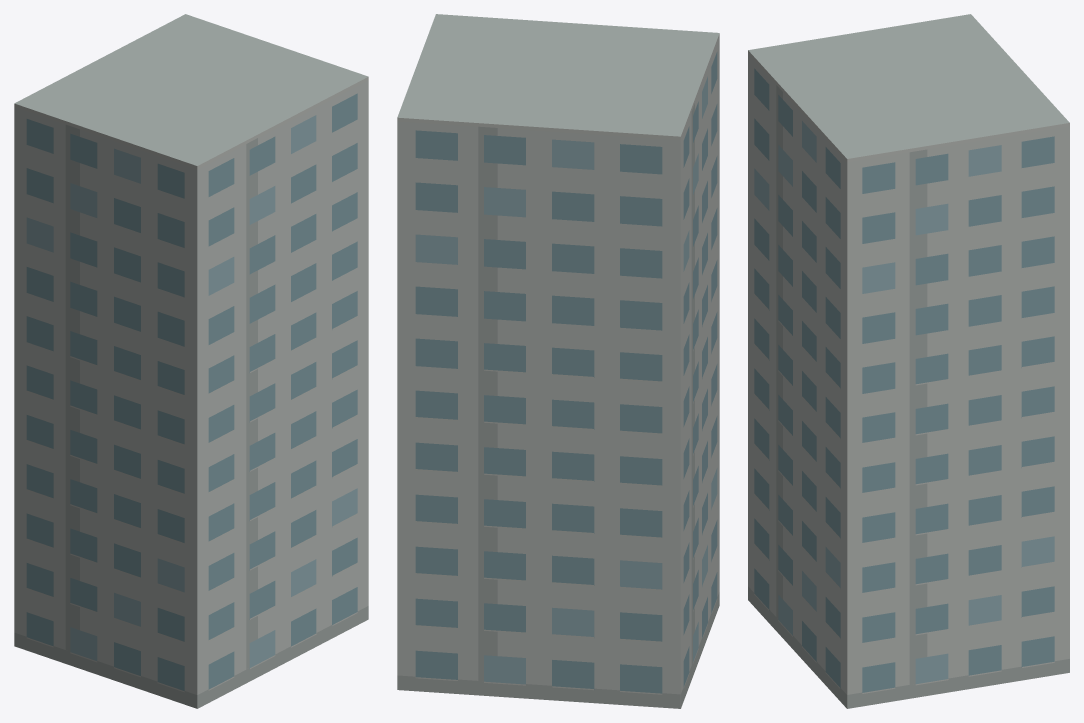
The model's file is residential-b37defc1-3ba0-4dcf-a113-f4f53af2526b.glb.
3 views of the same model, side by side, from view 1: azimuth 30°, elevation 25°; view 2: azimuth 150°, elevation 25°; view 3: azimuth 270°, elevation 25° (orthographic). The views are drawn at different scales.
Parts seen in each view (by area): view 1: residential-b37defc1-3ba0-4dcf-a113-f4f53af2526b.tmp; view 2: residential-b37defc1-3ba0-4dcf-a113-f4f53af2526b.tmp; view 3: residential-b37defc1-3ba0-4dcf-a113-f4f53af2526b.tmp.
Part boxes in pixels (x1,y1,x2,y2): residential-b37defc1-3ba0-4dcf-a113-f4f53af2526b.tmp: (14, 14, 368, 708); residential-b37defc1-3ba0-4dcf-a113-f4f53af2526b.tmp: (397, 14, 719, 708); residential-b37defc1-3ba0-4dcf-a113-f4f53af2526b.tmp: (748, 14, 1069, 708).
Bounding box in the file's own units: 22.07 × 39 × 20.69.
